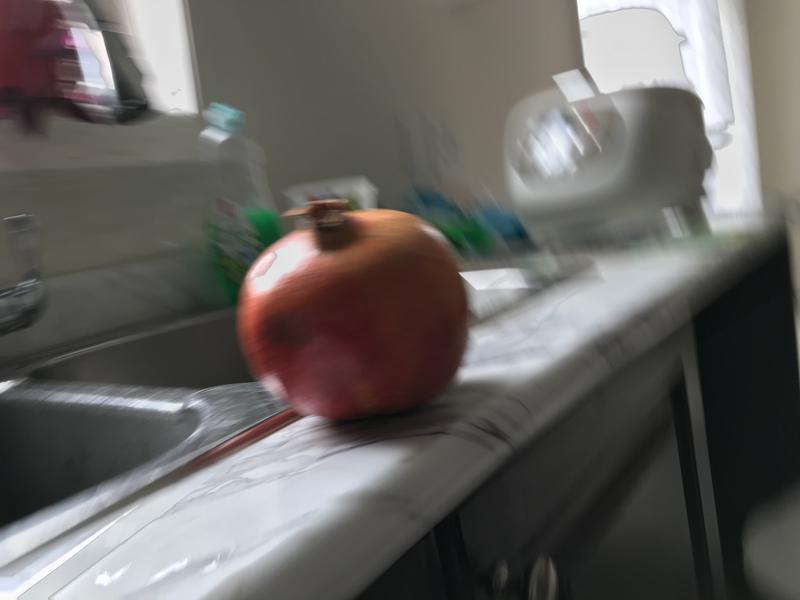pomegranate: (225, 185, 475, 440)
